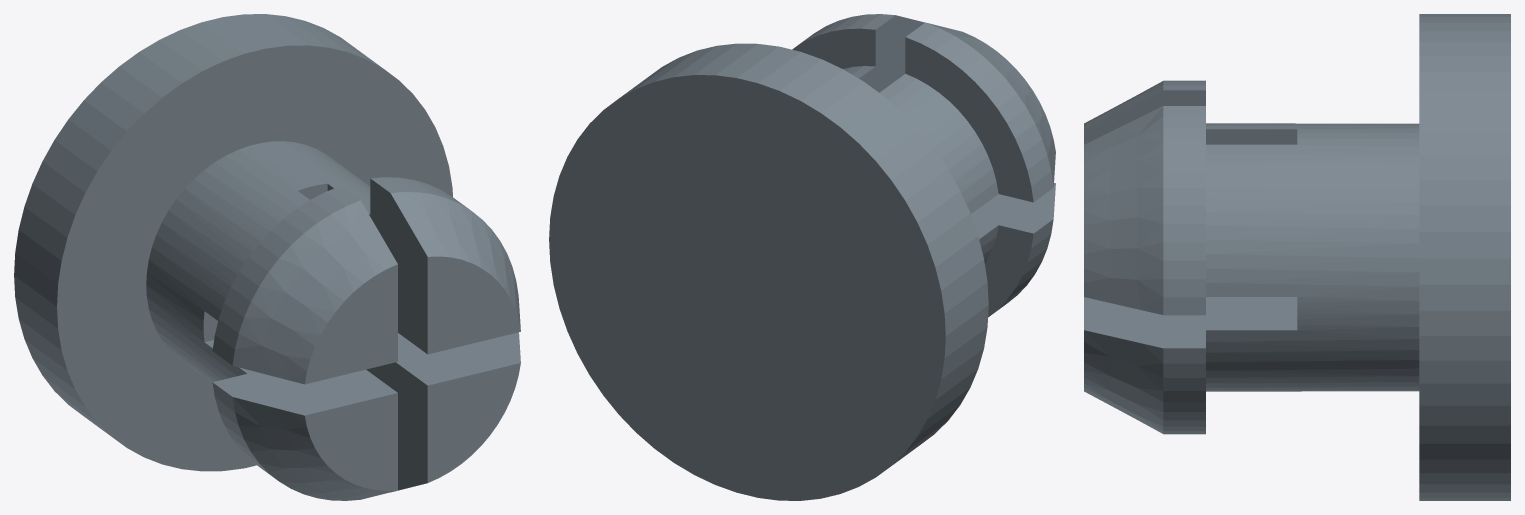
Rendered from throttle-shield-pushpin-estimated.glb.
3 renders of one model, left to right at view 1: azimuth 30°, elevation 25°; view 2: azimuth 150°, elevation 25°; view 3: azimuth 270°, elevation 25°, orthographic. The views are drawn at different scales.
Parts seen in each view (by area): view 1: world; view 2: world; view 3: world.
Part boxes in pixels (bbox=[...]): world: bbox=[14, 14, 520, 500]; world: bbox=[549, 14, 1055, 500]; world: bbox=[1084, 14, 1510, 500].
Bounding box in the file's own units: 0.008 × 0.00799 × 0.007.
